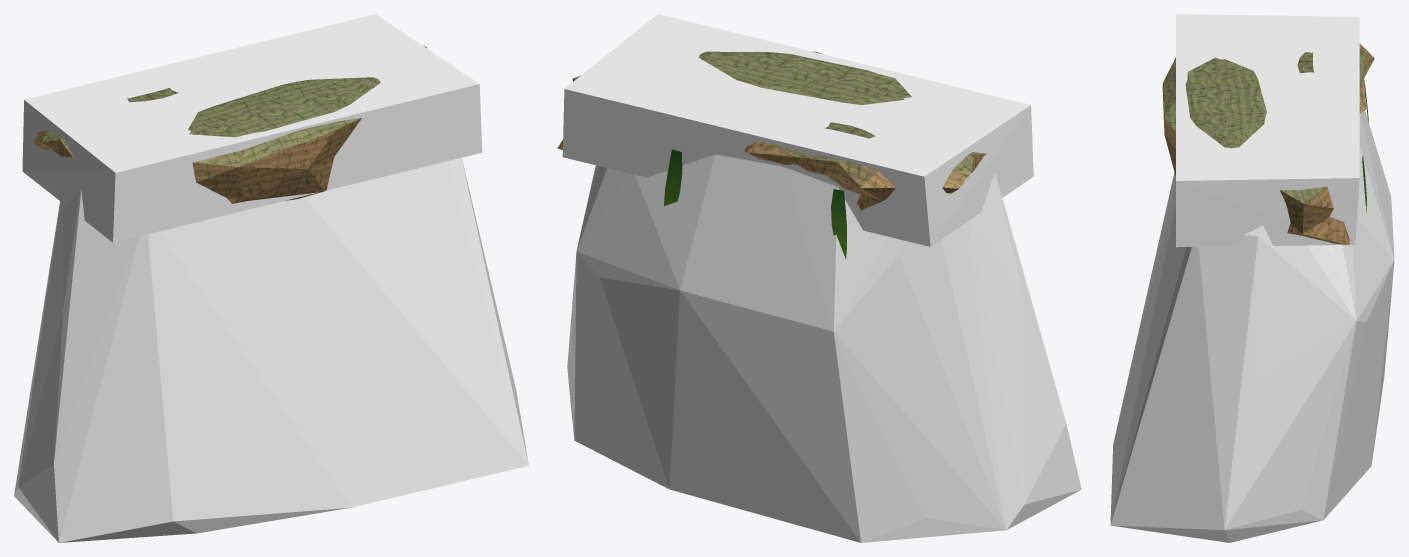
The model's file is cliff_buttress_wide.glb.
3 renders of one model, left to right at view 1: azimuth 30°, elevation 25°; view 2: azimuth 150°, elevation 25°; view 3: azimuth 270°, elevation 25°, orthographic. The views are drawn at different scales.
Visible parts, largest first — view 1: col_buttress_wide_main, col_buttress_wide_shelf, CliffButtressWide; view 2: col_buttress_wide_main, col_buttress_wide_shelf, CliffButtressWide; view 3: col_buttress_wide_main, col_buttress_wide_shelf, CliffButtressWide.
Part boxes in pixels (bbox=[...]): col_buttress_wide_main: bbox=[14, 157, 528, 542]; col_buttress_wide_shelf: bbox=[22, 14, 482, 242]; CliffButtressWide: bbox=[33, 46, 426, 203]; col_buttress_wide_main: bbox=[567, 154, 1081, 542]; col_buttress_wide_shelf: bbox=[562, 14, 1033, 246]; CliffButtressWide: bbox=[557, 51, 986, 258]; col_buttress_wide_main: bbox=[1110, 110, 1394, 542]; col_buttress_wide_shelf: bbox=[1176, 14, 1359, 247]; CliffButtressWide: bbox=[1162, 43, 1374, 245].
Bounding box in the file's own units: 18.84 × 13.6 × 10.28.
Materials: 4 (3 with a texture image).
